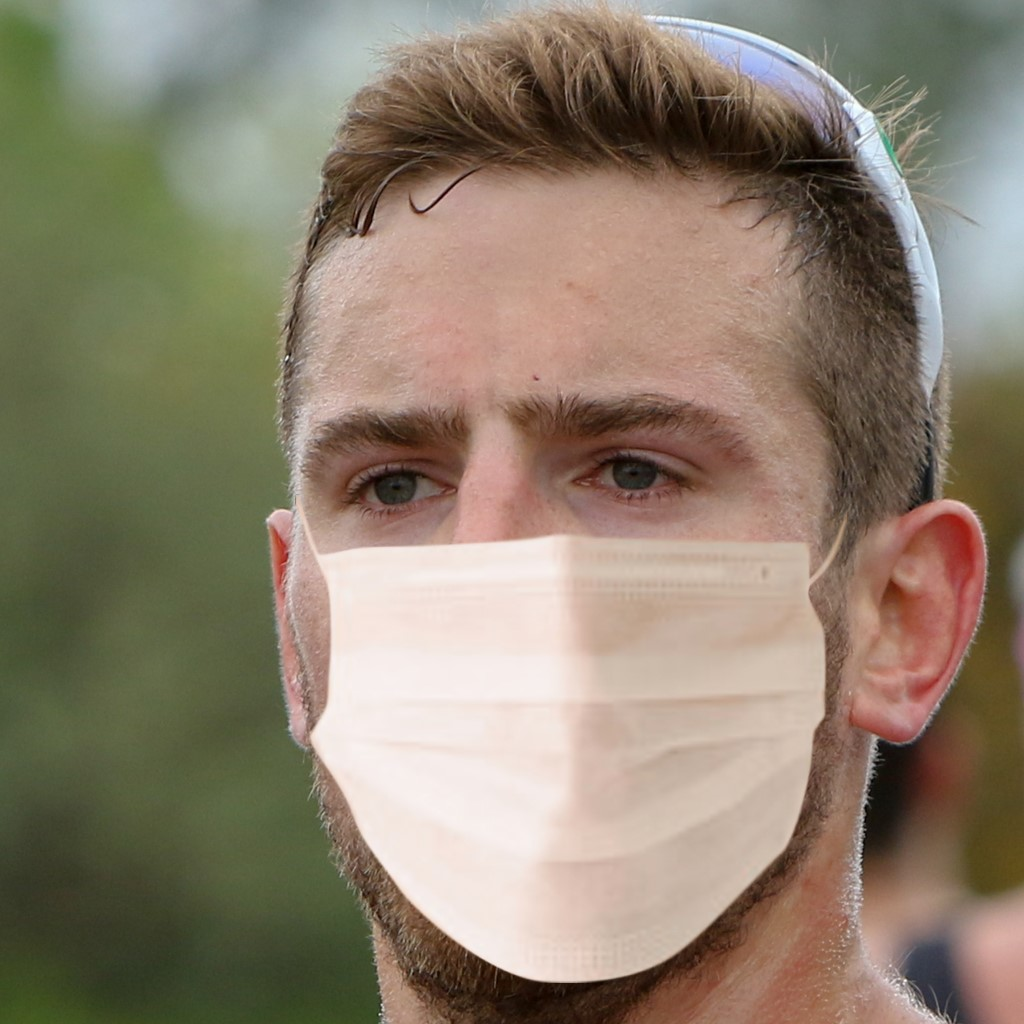con_mascara: (273, 108, 905, 988)
